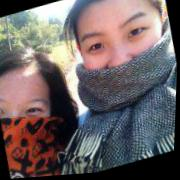OK: (1, 75, 64, 163)
WRONG: (73, 1, 174, 112)
